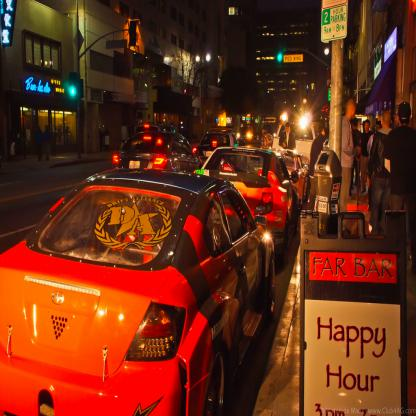Car: (0, 119, 309, 416)
